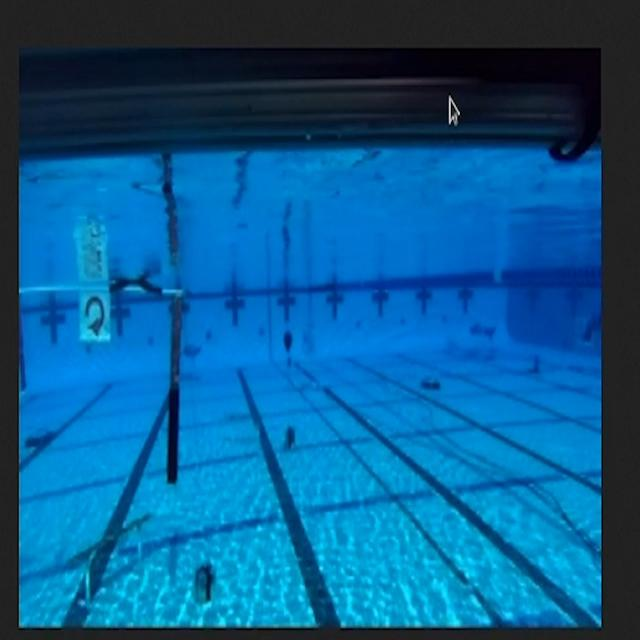Gate: (20, 265, 198, 501)
Path: (61, 508, 155, 617)
